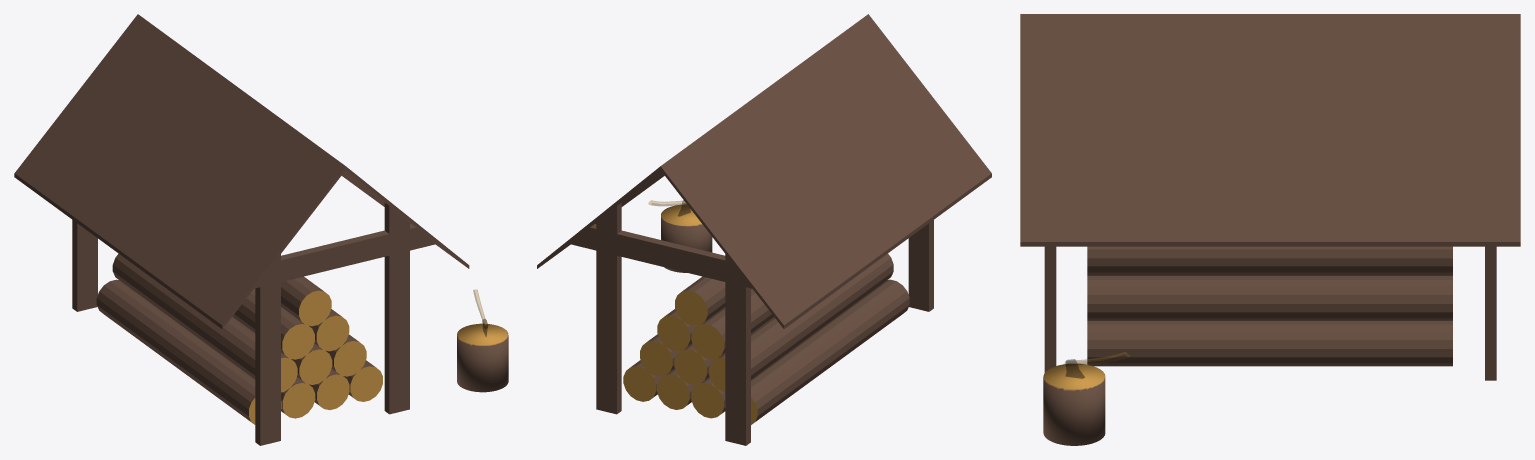
Rendered from sawmill.glb.
3 renders of one model, left to right at view 1: azimuth 30°, elevation 25°; view 2: azimuth 150°, elevation 25°; view 3: azimuth 270°, elevation 25°, orthographic. The views are drawn at different scales.
Parts seen in each view (by area): view 1: Cube; view 2: Cube; view 3: Cube.
Part boxes in pixels (x1,y1,x2,y2): Cube: (14,14,508,445); Cube: (537,14,991,445); Cube: (1020,14,1520,445).
Size of the model in its own units: 2.97 by 2.51 by 3.5.
Materials: 4 (4 with a texture image).
